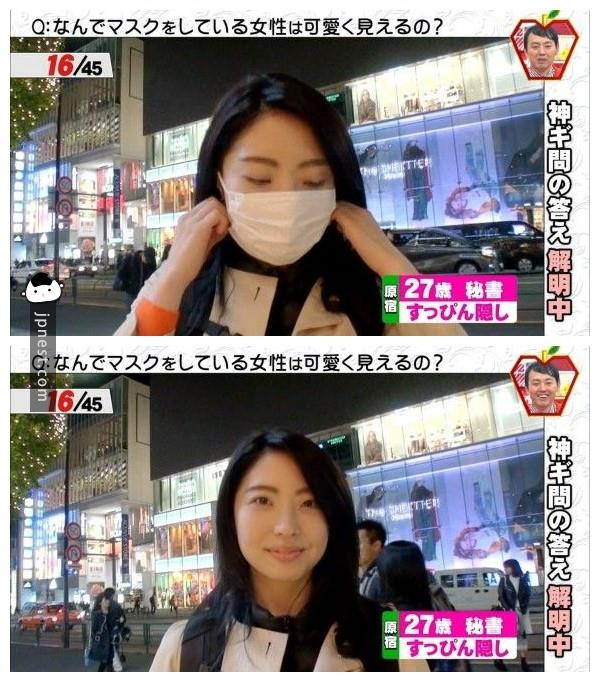mask: (224, 185, 337, 264)
